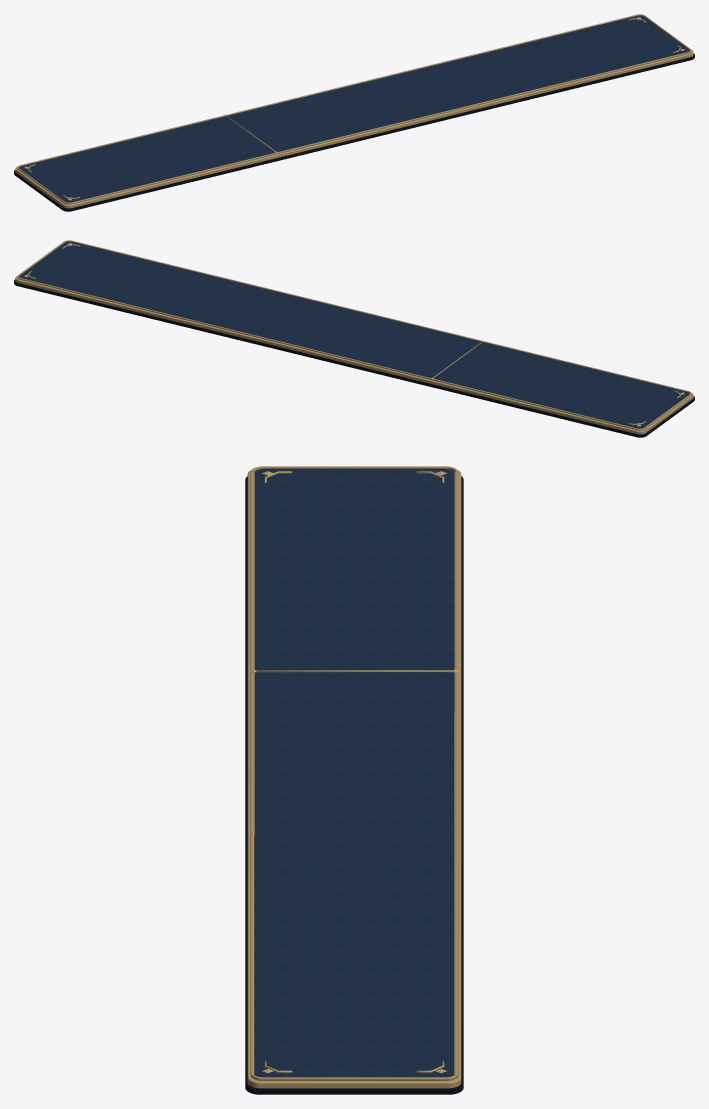
File: market.glb
3 renders of one model, top to bottom at view 1: azimuth 30°, elevation 25°; view 2: azimuth 150°, elevation 25°; view 3: azimuth 270°, elevation 25°, orthographic. The views are drawn at different scales.
Visible parts, largest first — view 1: lod0_03_NavyJacquard, lod0_04_ChampagneBrass, lod0_06_RecessInk; view 2: lod0_03_NavyJacquard, lod0_04_ChampagneBrass, lod0_06_RecessInk; view 3: lod0_03_NavyJacquard, lod0_04_ChampagneBrass, lod0_06_RecessInk.
Part boxes in pixels (x1,y1,x2,y2): lod0_03_NavyJacquard: (19, 15, 689, 202); lod0_04_ChampagneBrass: (15, 14, 693, 208); lod0_06_RecessInk: (14, 53, 694, 211); lod0_03_NavyJacquard: (19, 241, 689, 428); lod0_04_ChampagneBrass: (15, 240, 693, 434); lod0_06_RecessInk: (14, 279, 694, 437); lod0_03_NavyJacquard: (254, 468, 454, 1077); lod0_04_ChampagneBrass: (247, 466, 461, 1088); lod0_06_RecessInk: (245, 476, 463, 1094).
Size of the model in its own units: 1.36 by 0.017 by 0.204.
3 materials, 1 textured.
